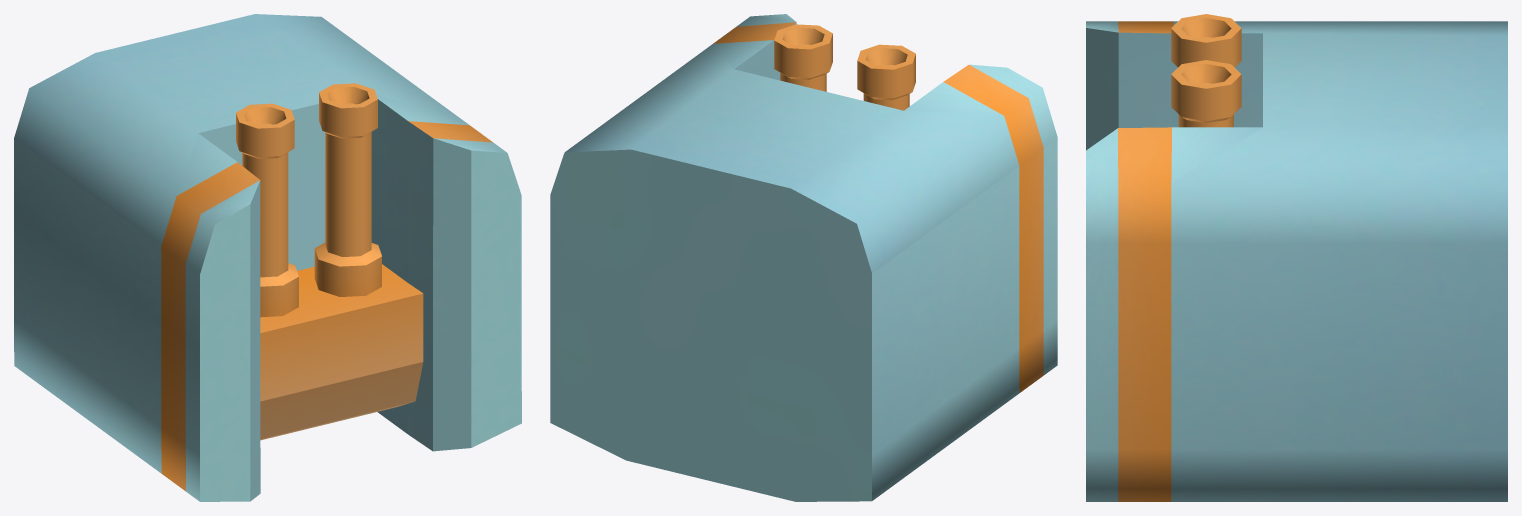
Rendered from Gun 2.fbx.
3 renders of one model, left to right at view 1: azimuth 30°, elevation 25°; view 2: azimuth 150°, elevation 25°; view 3: azimuth 270°, elevation 25°, orthographic. The views are drawn at different scales.
Visible parts, largest first — view 1: Simple gun.003, Simple gun.002; view 2: Simple gun.003, Simple gun.002; view 3: Simple gun.003, Simple gun.002.
Part boxes in pixels (x1,y1,x2,y2): Simple gun.003: (14, 14, 521, 501); Simple gun.002: (236, 83, 381, 317); Simple gun.003: (550, 14, 1057, 501); Simple gun.002: (774, 24, 915, 110); Simple gun.003: (1086, 21, 1507, 501); Simple gun.002: (1171, 14, 1241, 127).
Size of the model in its own units: 100 by 100 by 100.
